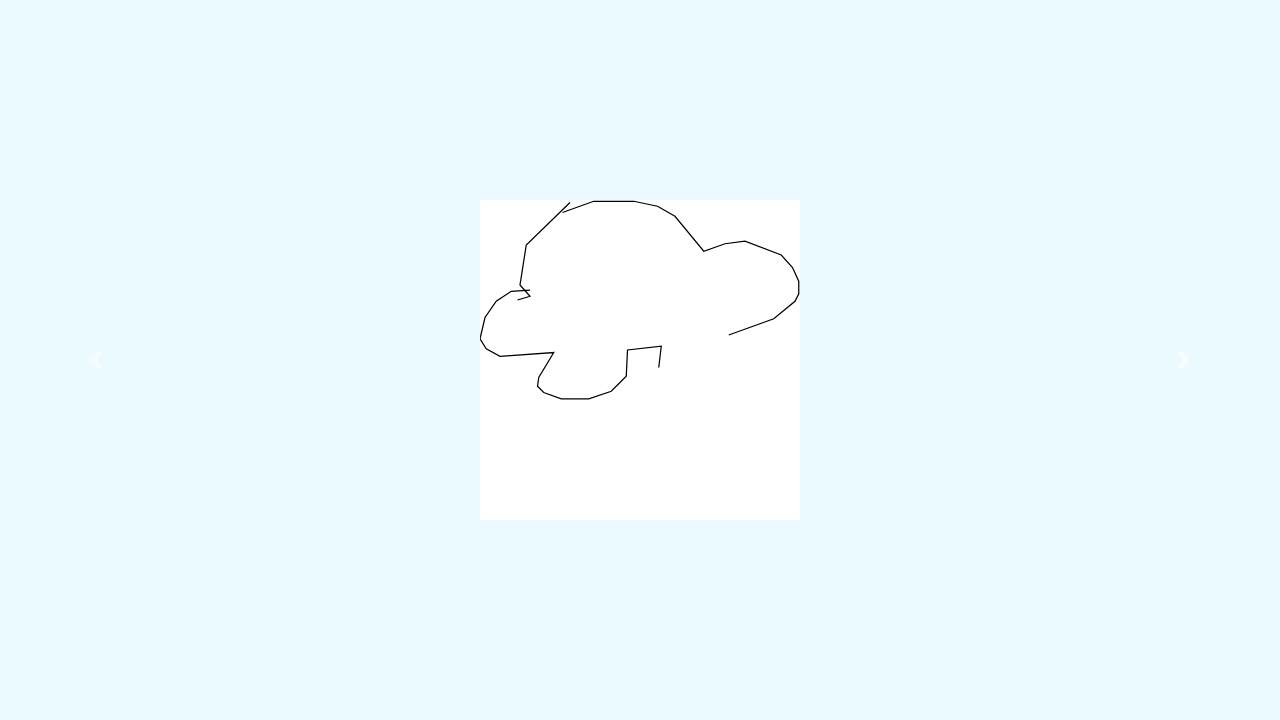car: (474, 197, 808, 407)
